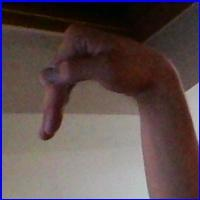del: (35, 22, 175, 152)
